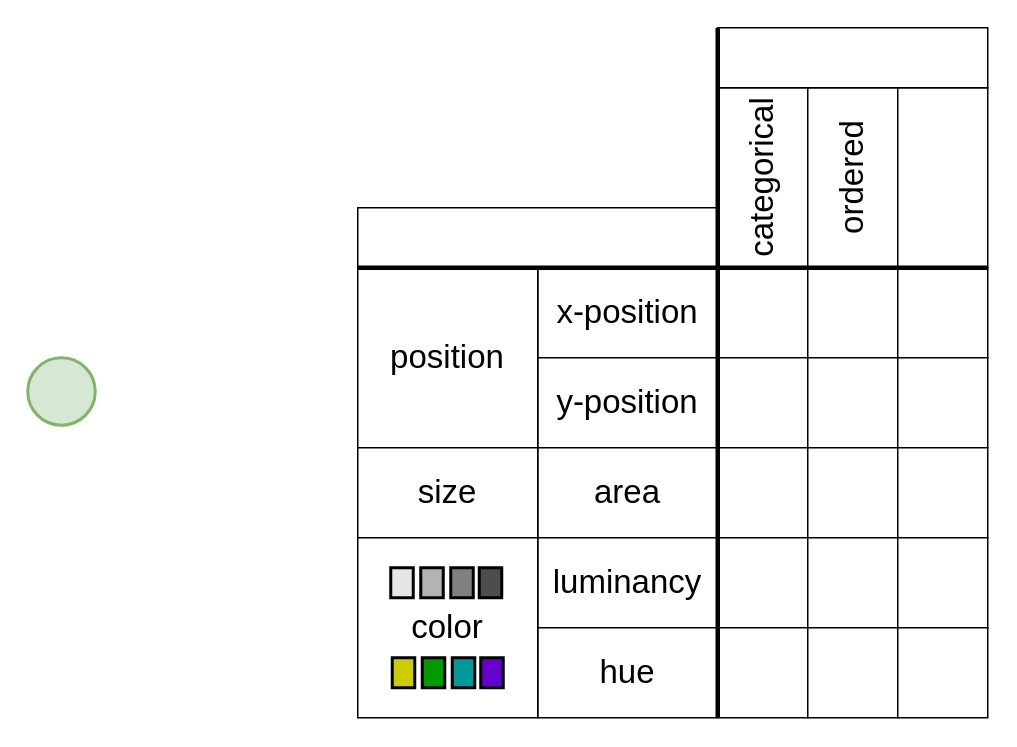
Some shapes in this 1017 by 747 pixel diagram are drawn without their labels. The shapes that lost their labels are listed below. From the top down, each one's centre as x and y in pixels, then its label:
At point 852,57: "data".
At point 942,177: "quantitative".
At point 537,237: "channel".
